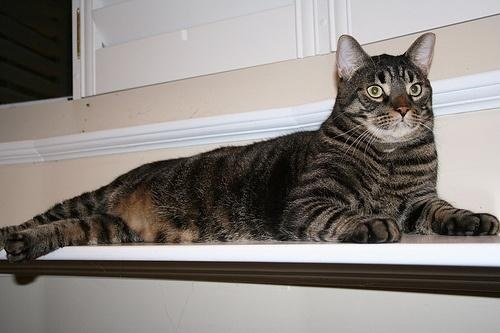cat: (1, 33, 500, 265)
